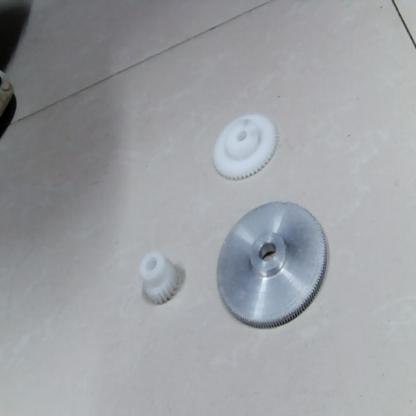FOD: (215, 196, 330, 329), (209, 110, 281, 186), (136, 243, 182, 307)
